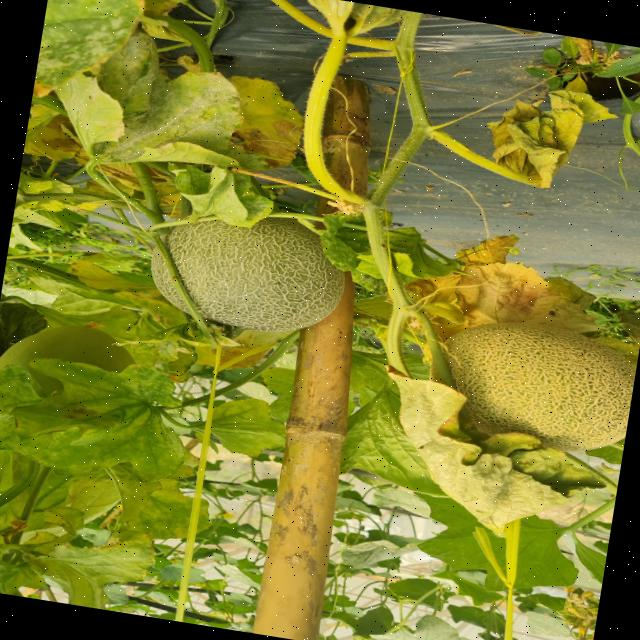melon: (444, 321, 636, 451), (164, 216, 345, 331), (150, 250, 187, 311)
